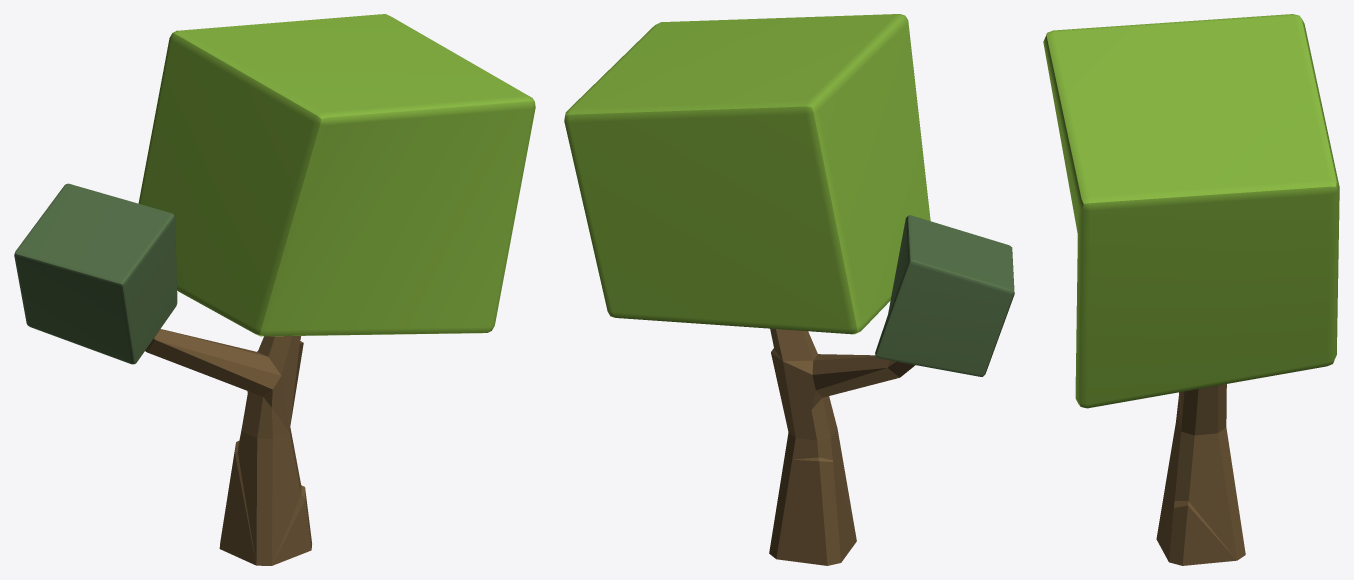
File: model_polytope_tree10.fbx
3 views of the same model, side by side, from view 1: azimuth 30°, elevation 25°; view 2: azimuth 150°, elevation 25°; view 3: azimuth 270°, elevation 25° (orthographic). The views are drawn at different scales.
Visible parts, largest first — view 1: model_polytope_tree10; view 2: model_polytope_tree10; view 3: model_polytope_tree10.
Boxes of the visible parts, x1,y1,x2,y2 form: model_polytope_tree10: (14,14,535,565); model_polytope_tree10: (564,14,1014,565); model_polytope_tree10: (1043,14,1339,565).
Bounding box in the file's own units: 316 × 337 × 177.
